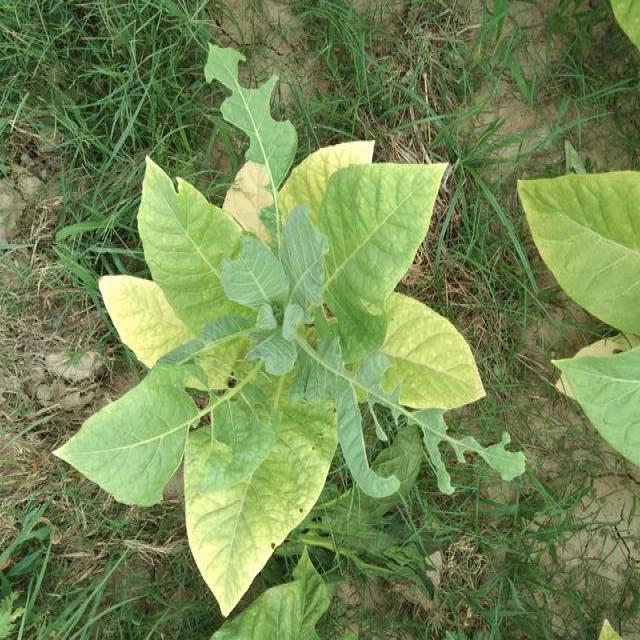crop: (54, 36, 490, 619)
